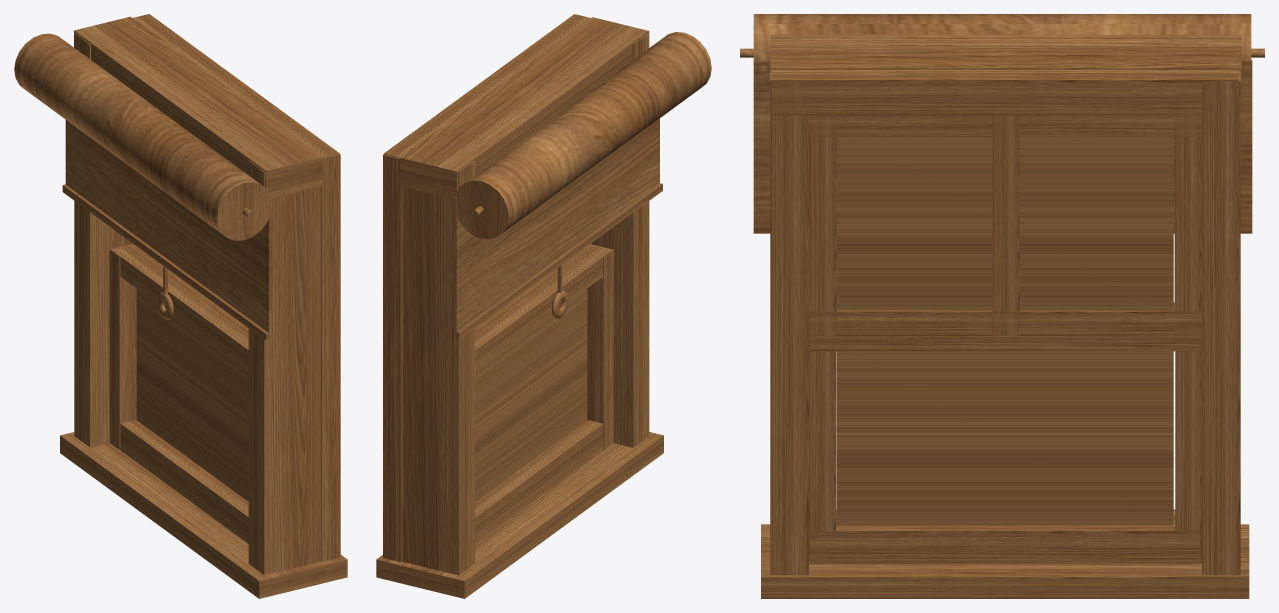
The model's file is ventana.obj.
3 views of the same model, side by side, from view 1: azimuth 30°, elevation 25°; view 2: azimuth 150°, elevation 25°; view 3: azimuth 270°, elevation 25° (orthographic). The views are drawn at different scales.
Visible parts, largest first — view 1: cuarto:cuarto:polySurface7275polySurface7410; view 2: cuarto:cuarto:polySurface7275polySurface7410; view 3: cuarto:cuarto:polySurface7275polySurface7410.
Boxes of the visible parts, left/top/right/bottom form: cuarto:cuarto:polySurface7275polySurface7410: left=14, top=14, right=347, bottom=598; cuarto:cuarto:polySurface7275polySurface7410: left=376, top=14, right=711, bottom=598; cuarto:cuarto:polySurface7275polySurface7410: left=740, top=14, right=1264, bottom=598.
Size of the model in its own units: 0.6025 by 1.82 by 1.67.
Materials: 7 (7 with a texture image).
